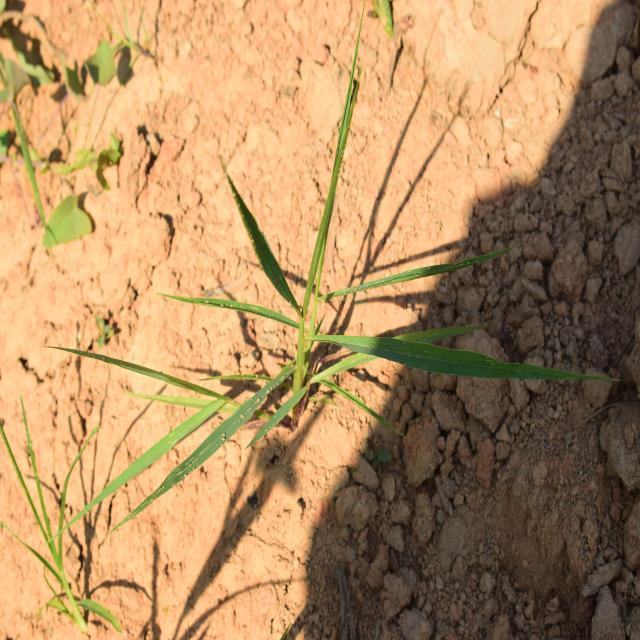green_foxtail: (176, 167, 473, 454)
